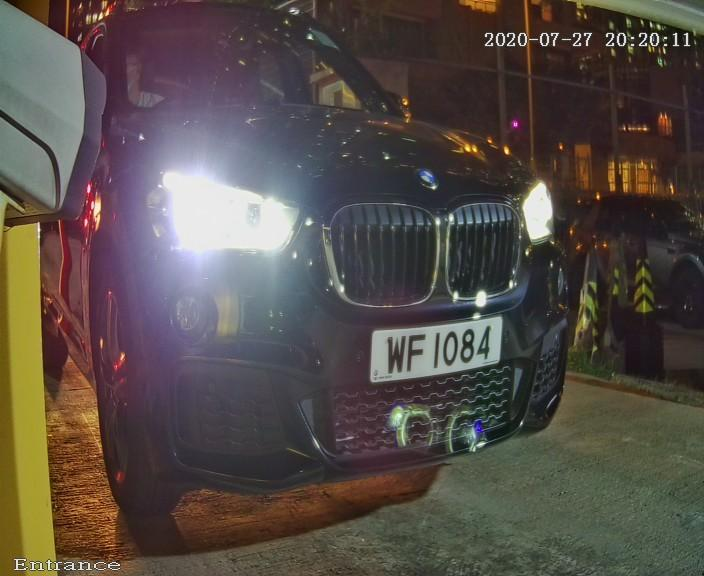privatecar: (49, 2, 608, 518)
